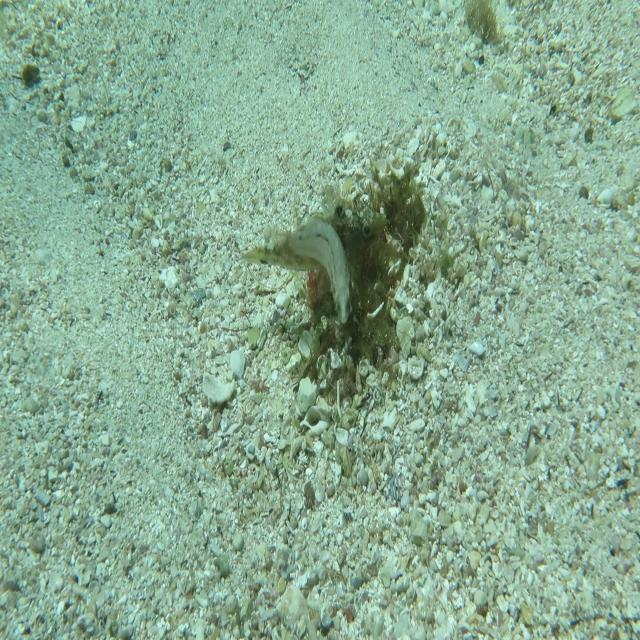FAN: (241, 180, 388, 272)
core_nest: (366, 191, 413, 247)
female: (270, 212, 352, 326)
nest: (282, 140, 442, 407)
